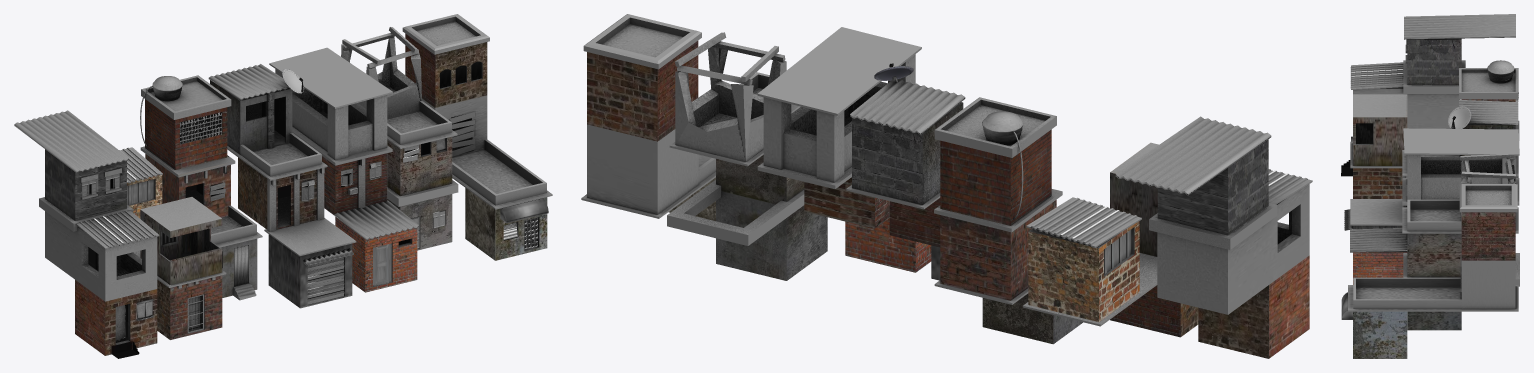
The model's file is kit.glb.
3 renders of one model, left to right at view 1: azimuth 30°, elevation 25°; view 2: azimuth 150°, elevation 25°; view 3: azimuth 270°, elevation 25°, orthographic. The views are drawn at different scales.
Parts seen in each view (by area): view 1: C1, G1, F5, D3, F6, A6, A4, G4, B2, F2, G3, A2 (+23 smaller); view 2: C1, G1, F5, E1, D2, B2, G2, B3, A2, F6, F1, E5 (+18 smaller); view 3: C1, G1, G3, D3, G4, G2, F1, F2, E3, E2, B1, F5 (+16 smaller).
Boxes of the visible parts, x1,y1,x2,y2 form: C1: [269, 47, 392, 160]; G1: [402, 14, 489, 107]; F5: [45, 211, 157, 301]; D3: [140, 197, 222, 284]; F6: [75, 280, 157, 358]; A6: [268, 234, 353, 308]; A4: [238, 157, 324, 231]; G4: [465, 188, 548, 260]; B2: [145, 99, 227, 169]; F2: [45, 149, 126, 220]; G3: [452, 139, 552, 209]; A2: [210, 69, 303, 154]; C1: [757, 27, 921, 182]; G1: [583, 14, 701, 141]; F5: [1157, 184, 1309, 314]; E1: [675, 32, 786, 161]; D2: [1028, 221, 1139, 321]; B2: [940, 129, 1051, 225]; G2: [587, 124, 698, 214]; B3: [934, 189, 1062, 300]; A2: [852, 63, 963, 205]; F6: [1198, 255, 1309, 358]; F1: [1115, 116, 1271, 195]; E5: [716, 191, 827, 280]; C1: [1403, 128, 1519, 199]; G1: [1459, 184, 1517, 260]; G3: [1348, 277, 1518, 311]; D3: [1353, 94, 1407, 165]; G4: [1341, 292, 1407, 358]; G2: [1460, 256, 1515, 309]; F1: [1404, 14, 1515, 39]; F2: [1405, 38, 1461, 84]; E3: [1407, 233, 1461, 277]; E2: [1402, 199, 1518, 233]; B1: [1459, 60, 1518, 99]; F5: [1353, 87, 1459, 128].
Bounding box in the file's own units: 17.25 × 6.75 × 6.59.
36 materials, 36 textured.
